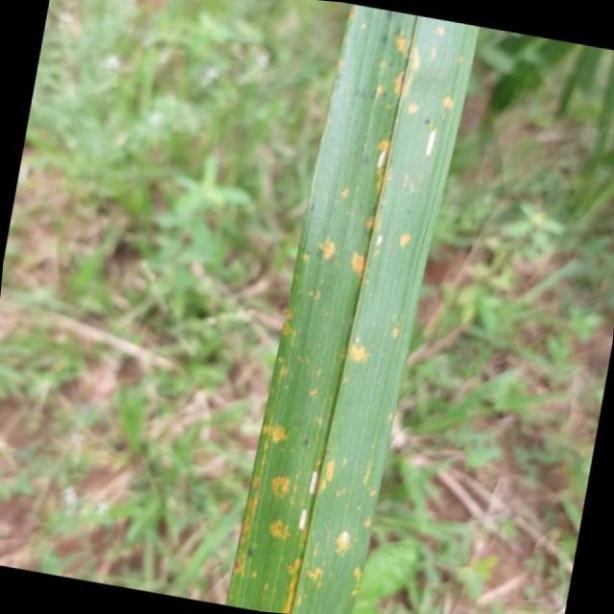Kalium: (227, 6, 480, 614)
